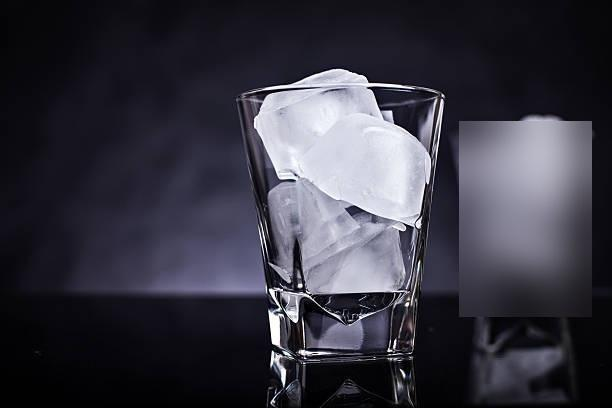glass-normal: (234, 73, 447, 367)
